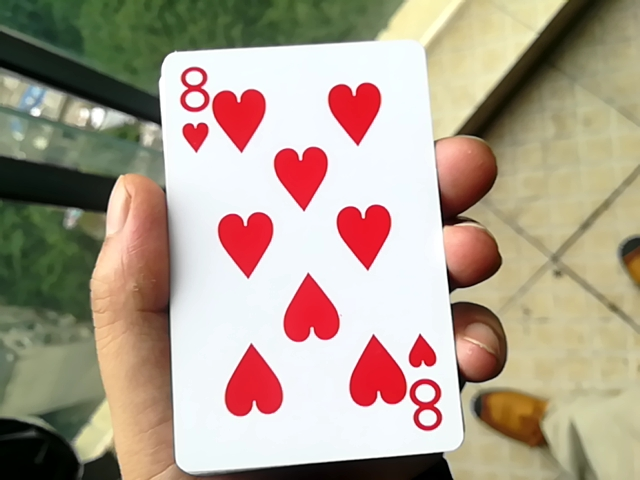hx 8: (137, 25, 457, 463)
